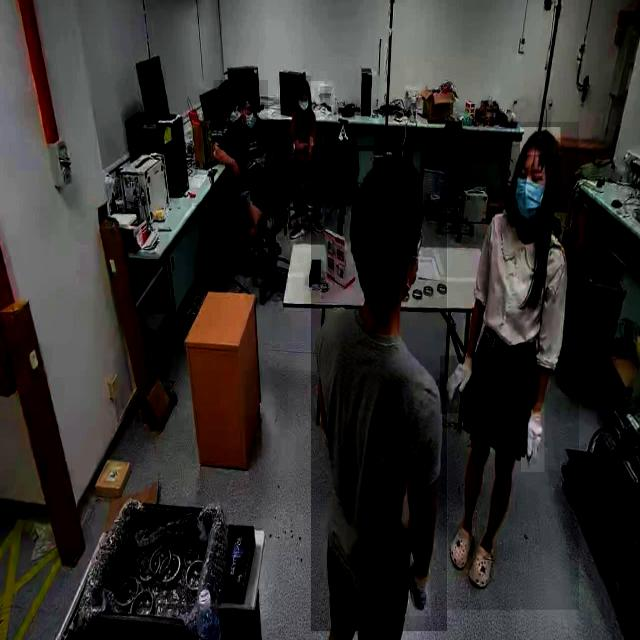face_mask: (510, 150, 550, 222), (242, 107, 258, 135), (296, 92, 310, 118)
hand_glove: (440, 356, 476, 414), (520, 403, 544, 473), (408, 569, 430, 617)
hand_noglove: (232, 161, 244, 187), (303, 145, 315, 158)
head_nohelmet: (350, 151, 422, 227), (520, 127, 560, 156), (241, 89, 257, 106), (295, 76, 311, 92)
person: (311, 146, 447, 632), (447, 122, 579, 610), (213, 80, 268, 276), (289, 81, 325, 226)
